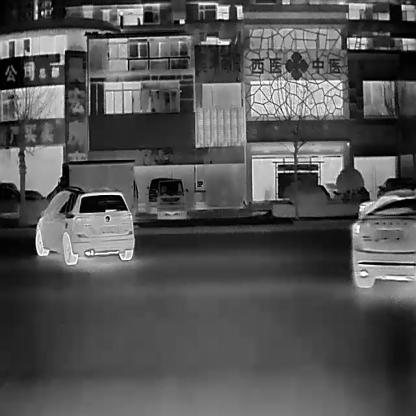car: (34, 188, 134, 263), (352, 196, 415, 286), (156, 179, 188, 219), (0, 185, 31, 219), (146, 176, 171, 207)
